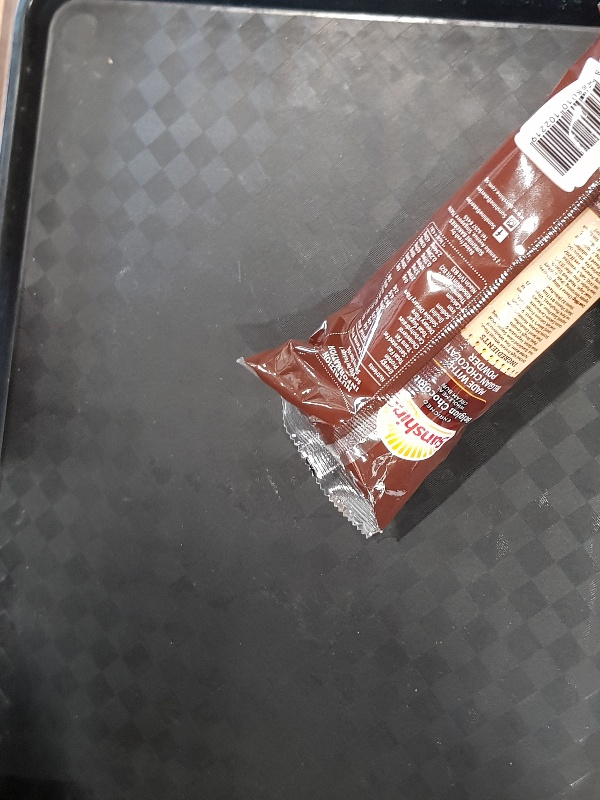Sunshine Belgium Chocolate Wholemeal Cream Bun: (232, 37, 600, 537)
